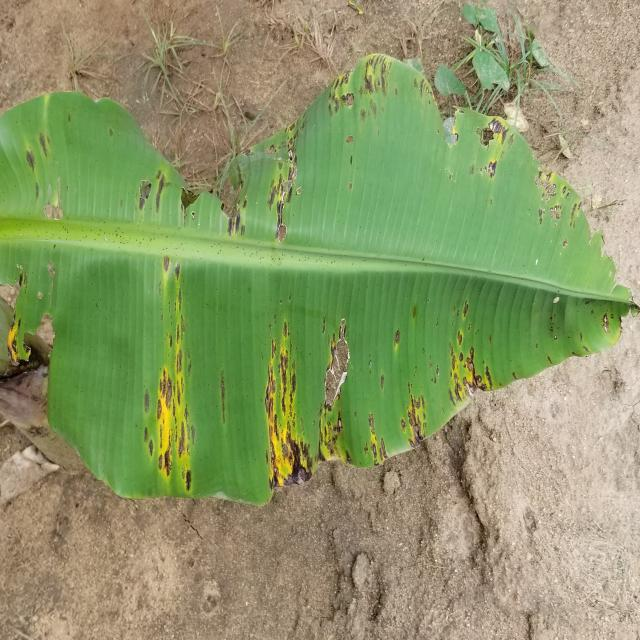Early_rust: (0, 73, 640, 523)
